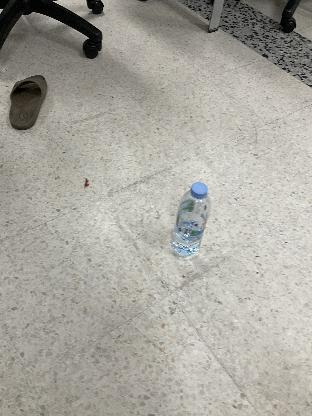Plastic Bottle: (173, 182, 211, 260)
